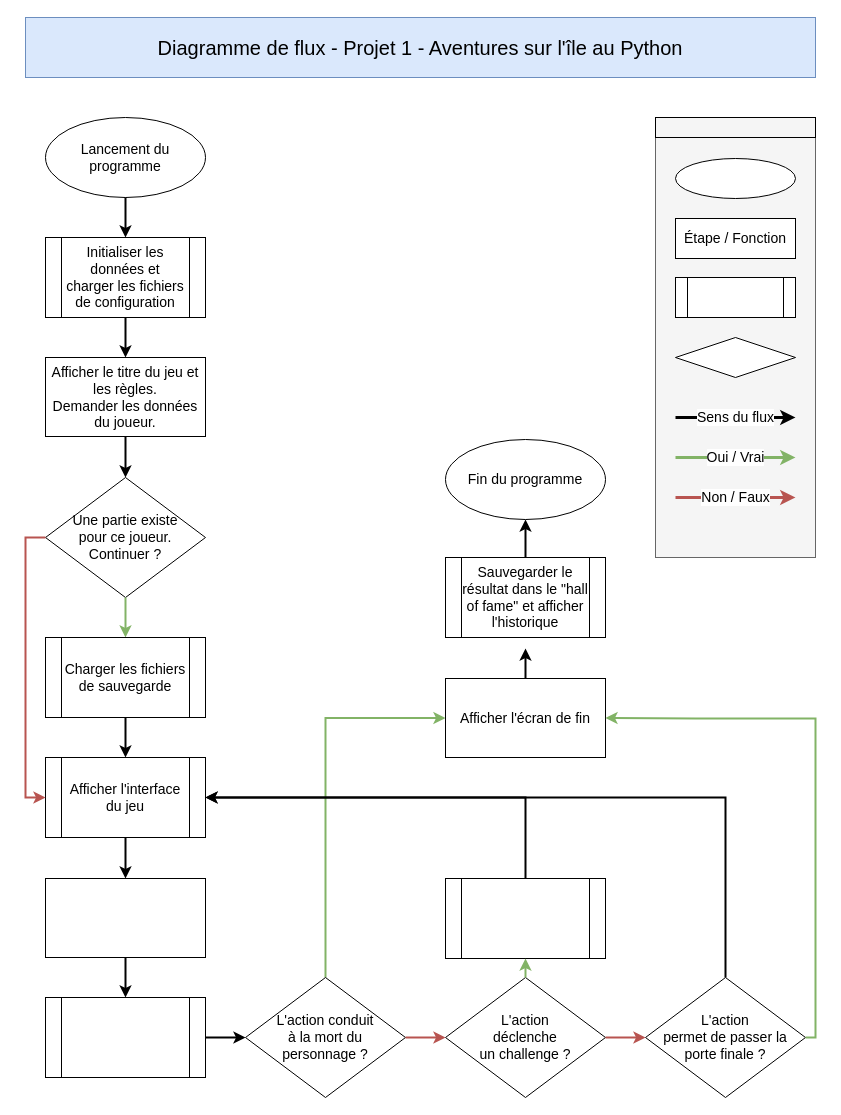
The diagram is 841 pixels wide and 1115 high, and some of its shapes have lost their labels. Here are the shapes that lost their labels. From the top down, the centre of each, then its label:
the point at 735,127: Légende
the point at 735,178: Début / Fin
the point at 735,297: (Sous)-processus
the point at 735,357: Choix
the point at 125,918: Demander au joueur sa prochaine action
the point at 525,918: Résoudre le Challenge
the point at 125,1037: Gérer l'action à effectuer
